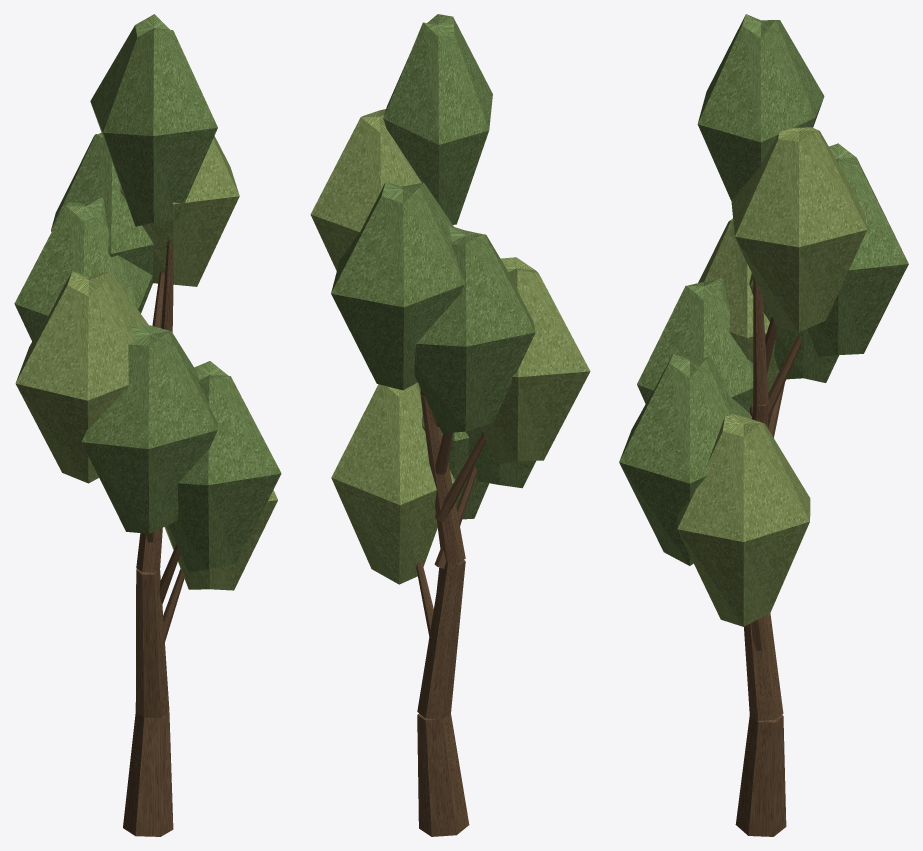
Rendered from tree_02.glb.
The picture shows the model from 3 angles, left to right: view 1: azimuth 30°, elevation 25°; view 2: azimuth 150°, elevation 25°; view 3: azimuth 270°, elevation 25°; orthographic projection.
Parts seen in each view (by area): view 1: outdoor_tree_02; view 2: outdoor_tree_02; view 3: outdoor_tree_02.
Part boxes in pixels (<box>): outdoor_tree_02: <box>14,14,281,836</box>; outdoor_tree_02: <box>310,14,590,836</box>; outdoor_tree_02: <box>619,14,908,836</box>.
Bounding box in the file's own units: 2 × 6.2 × 2.
Materials: 2 (2 with a texture image).
